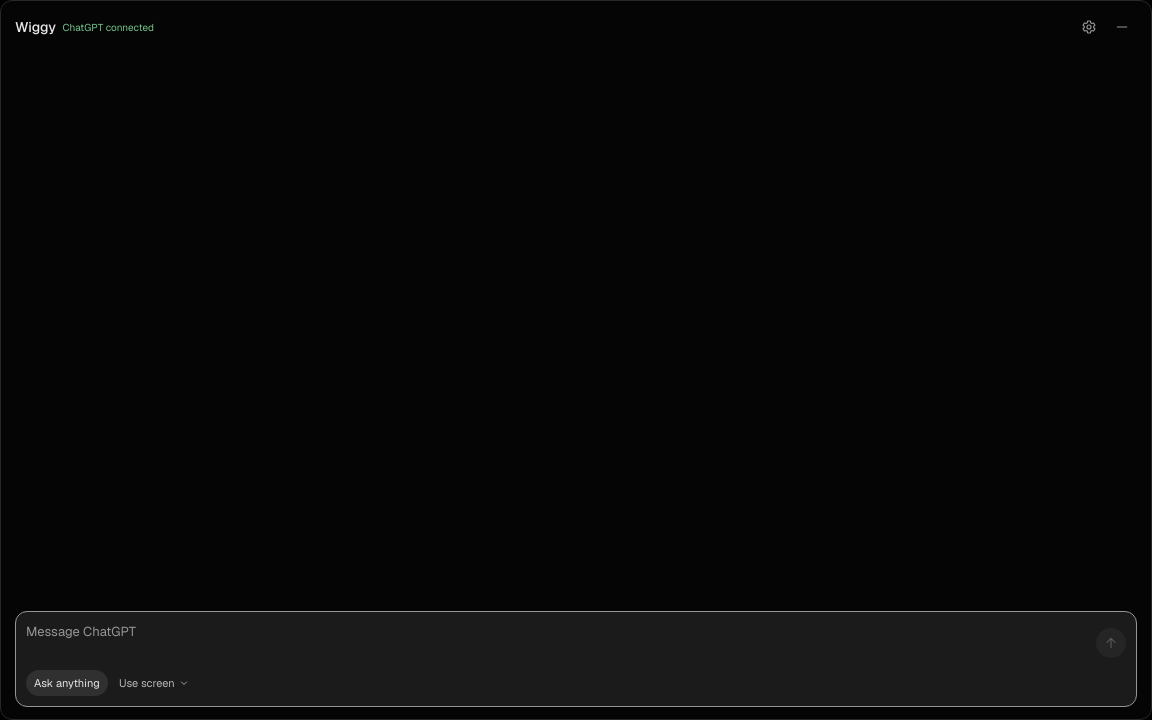
Test: chat and settings › renders streamed assistant text and stops the active reply
expect the text "ChatGPT connected" is shown: met, box [62, 20, 154, 34]
In the text box named "Your message": (557, 643) [26, 622, 1088, 664], type "Please answer in one sentence."
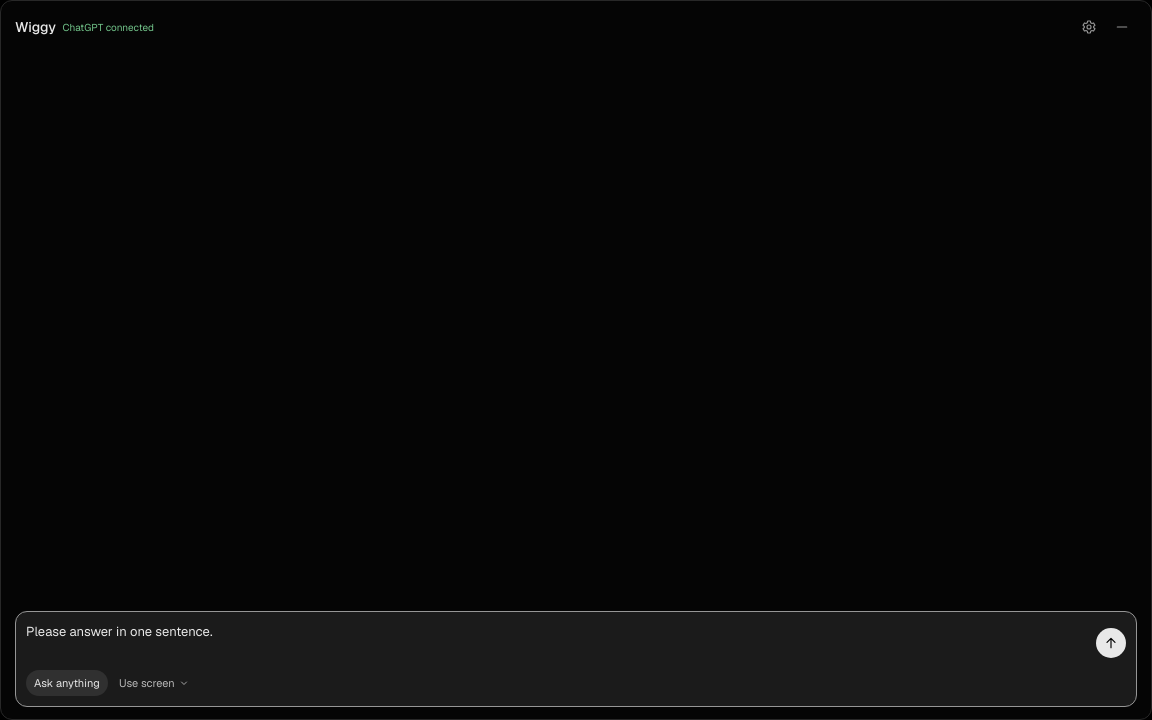
Press Enter in the text box named "Your message", box [26, 622, 1088, 664]
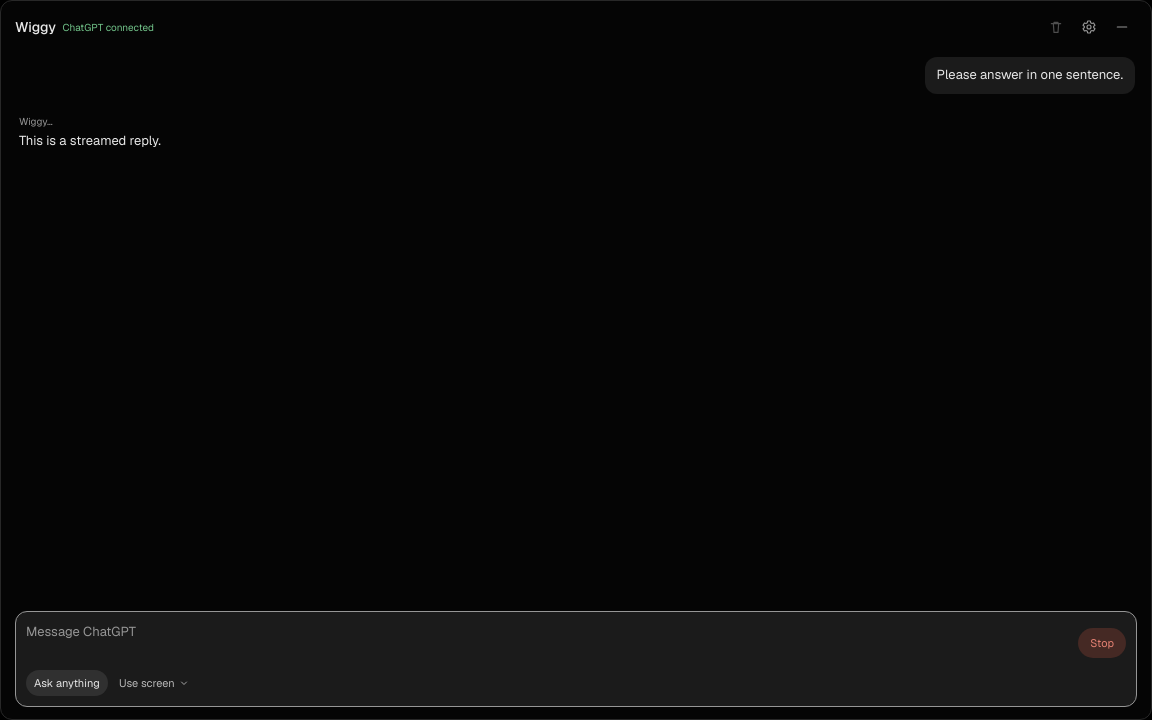
expect the text "This is a streamed reply." is shown: met, box [19, 131, 161, 152]
Click the button "Stop": (1102, 643) [1078, 628, 1126, 658]
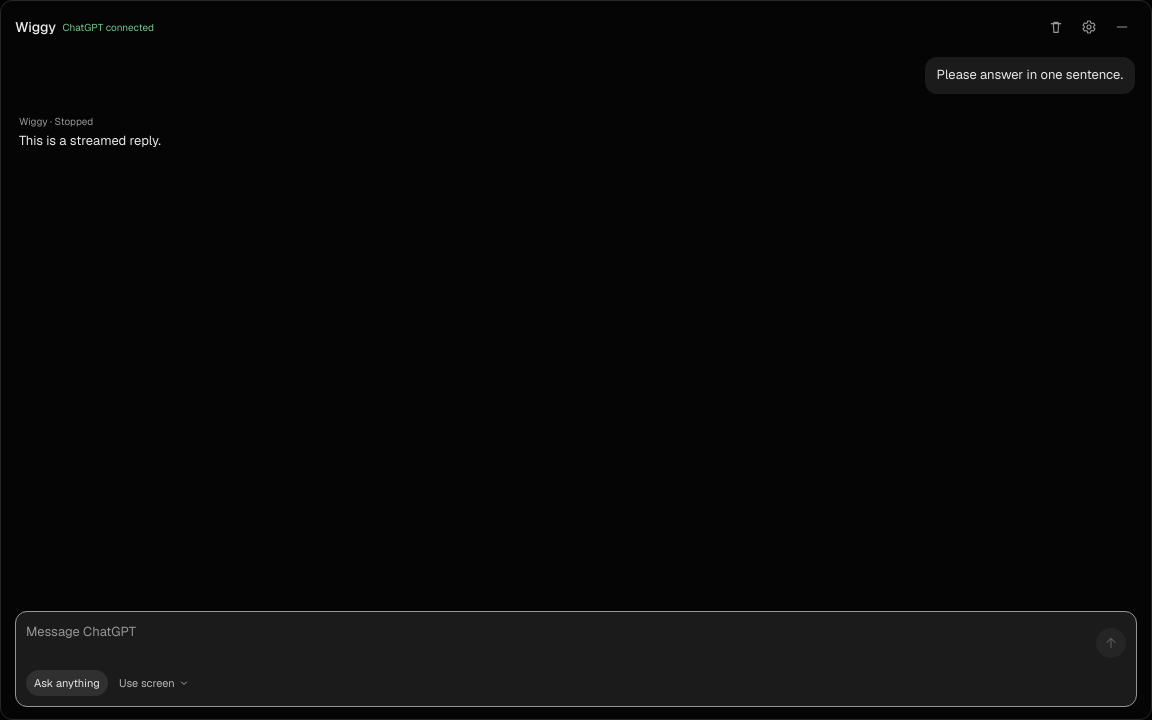
expect the button named "Clear chat" is enabled: met, box [1040, 12, 1070, 42]
